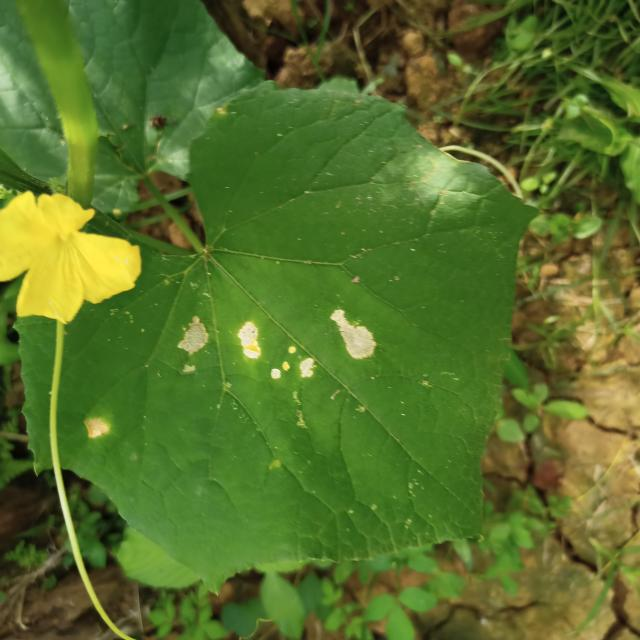disease_cucumber: (171, 306, 378, 384), (84, 416, 113, 442)
